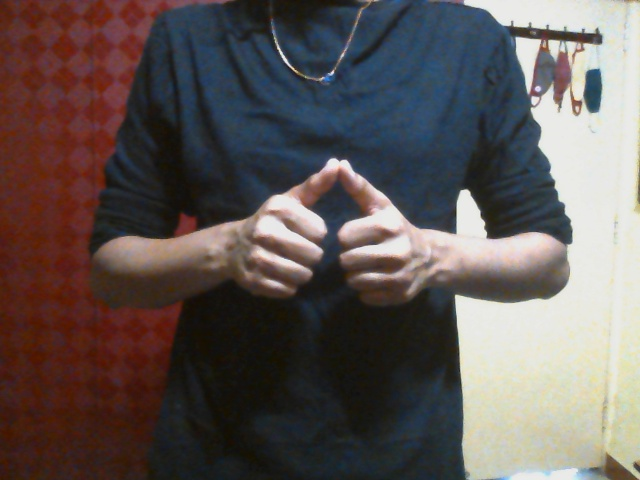A: (237, 157, 427, 309)
